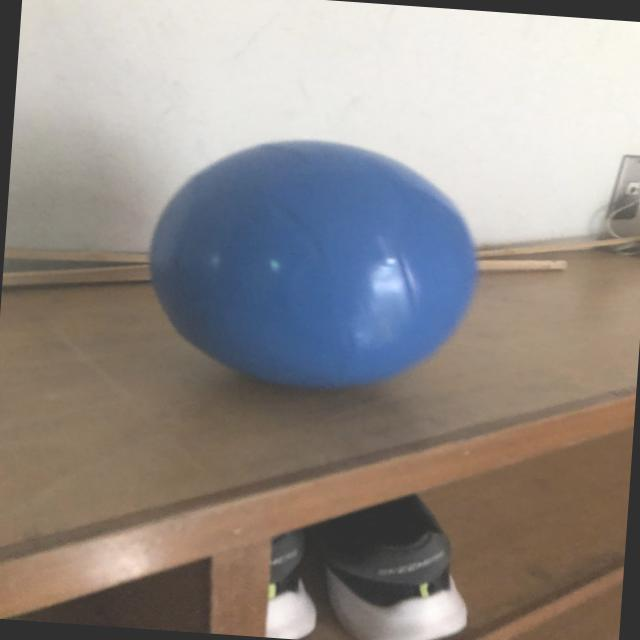blue_ball: (136, 133, 476, 397)
